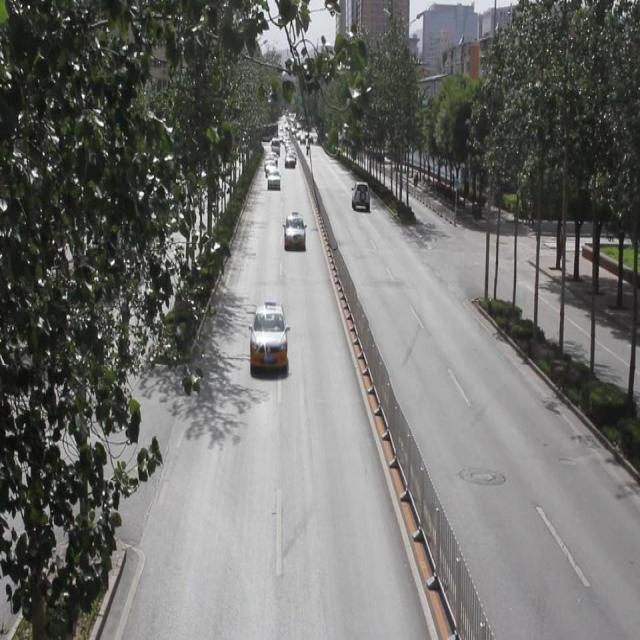car: (250, 303, 286, 370), (284, 211, 306, 252), (351, 180, 368, 212)
